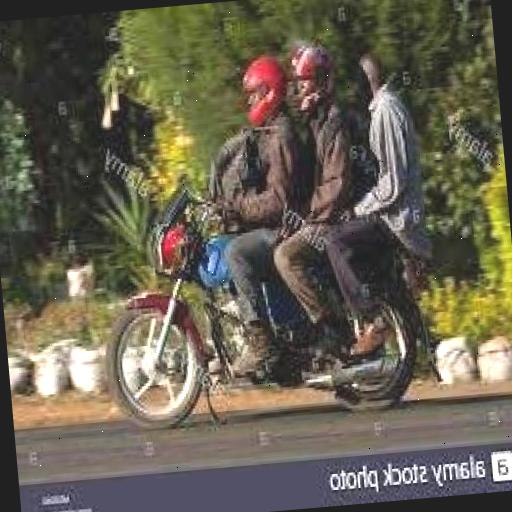helmet: (226, 44, 305, 138)
triple riding: (114, 18, 508, 438)
